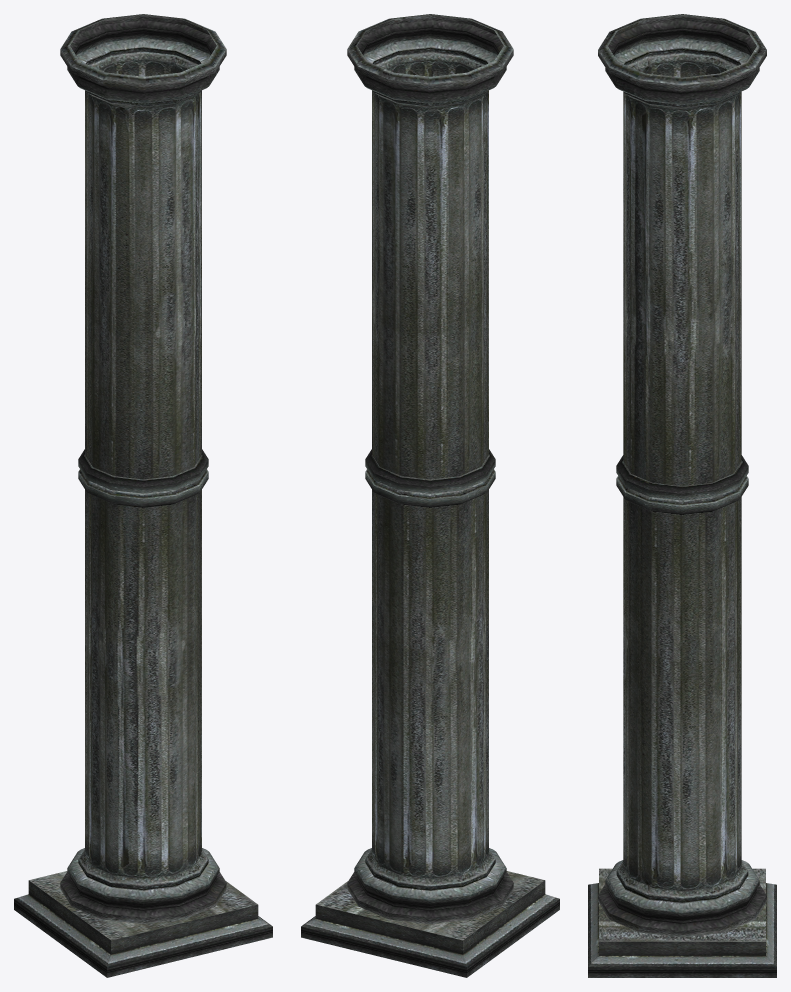
Rendered from pillar.dae.
3 renders of one model, left to right at view 1: azimuth 30°, elevation 25°; view 2: azimuth 150°, elevation 25°; view 3: azimuth 270°, elevation 25°, orthographic.
Parts seen in each view (by area): view 1: Mesh; view 2: Mesh; view 3: Mesh.
Boxes of the visible parts, x1,y1,x2,y2 form: Mesh: (14,14,272,977); Mesh: (301,14,559,977); Mesh: (588,14,776,977).
Size of the model in its own units: 3.6 by 18.24 by 3.5.
